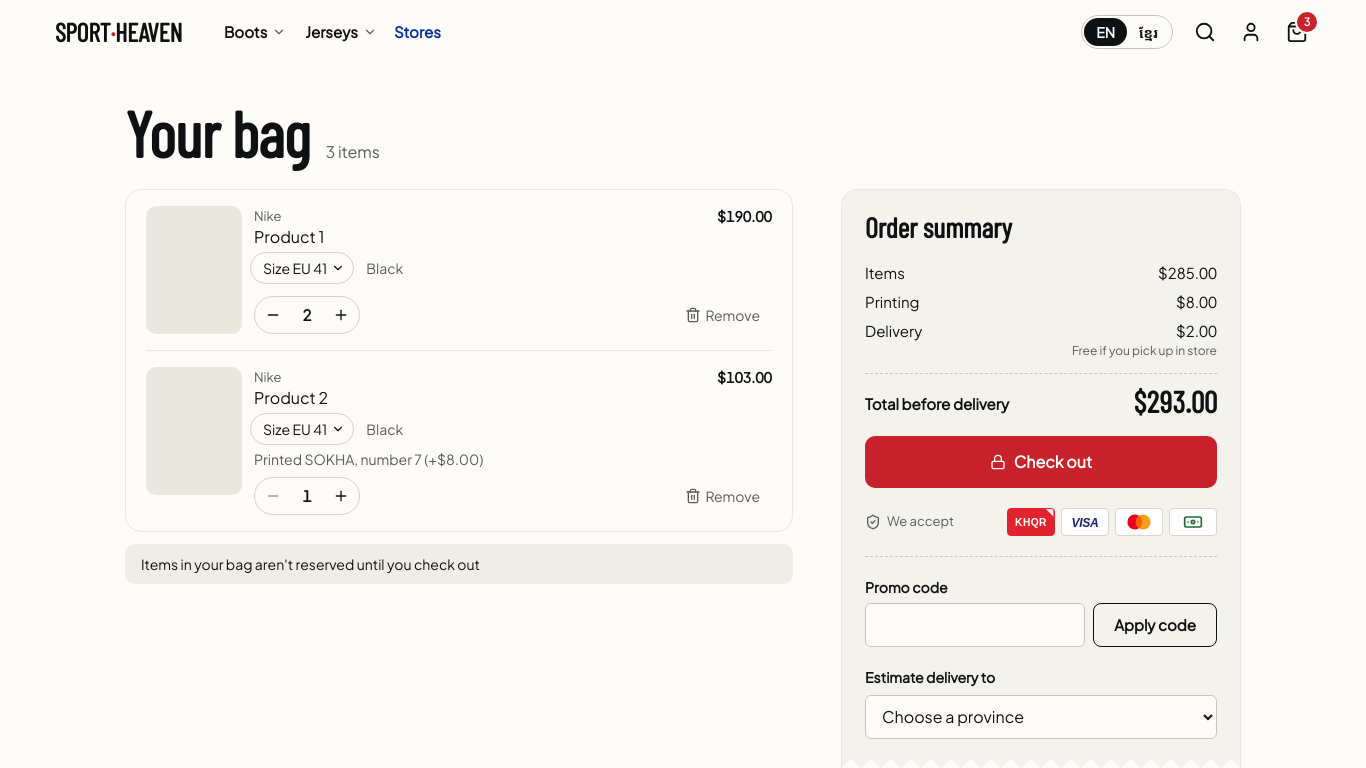
Test: bag › estimates delivery for a province
The width and height of the screenshot is (1366, 768).
Select "Battambang" in the dropdown labelled "Estimate delivery to" at (1041, 716), box x1=865 y1=694 x2=1217 y2=738
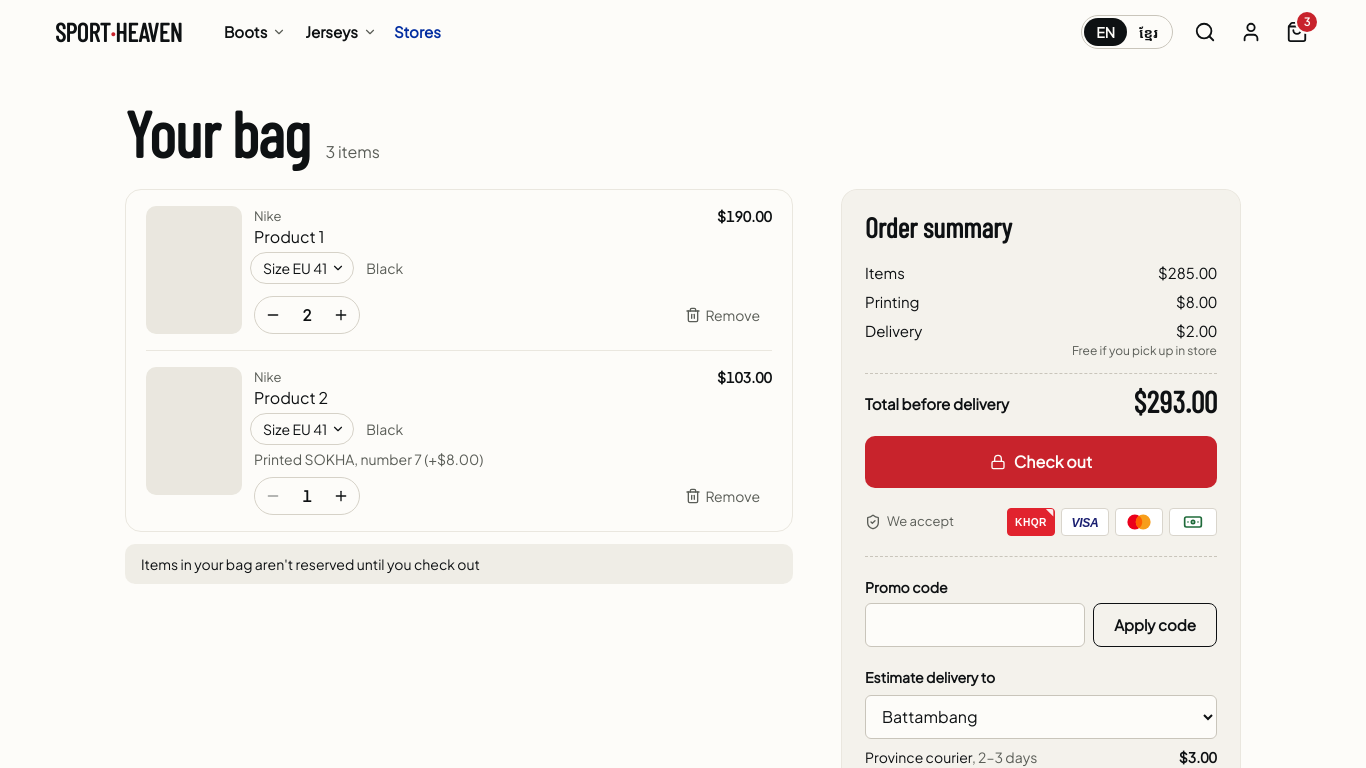
Now the text "Province courier, 2–3 days" is shown, box x1=865 y1=746 x2=1037 y2=766
Now the text "$3.00" is shown, box x1=1179 y1=746 x2=1217 y2=766
